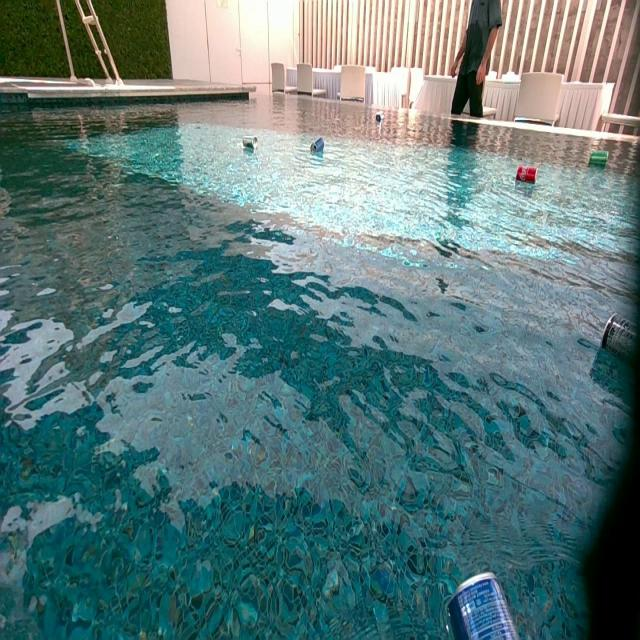Cans: (445, 570, 523, 636), (598, 311, 640, 370), (517, 167, 536, 184), (242, 136, 258, 152), (310, 137, 325, 154), (591, 148, 609, 162), (376, 113, 384, 123)
